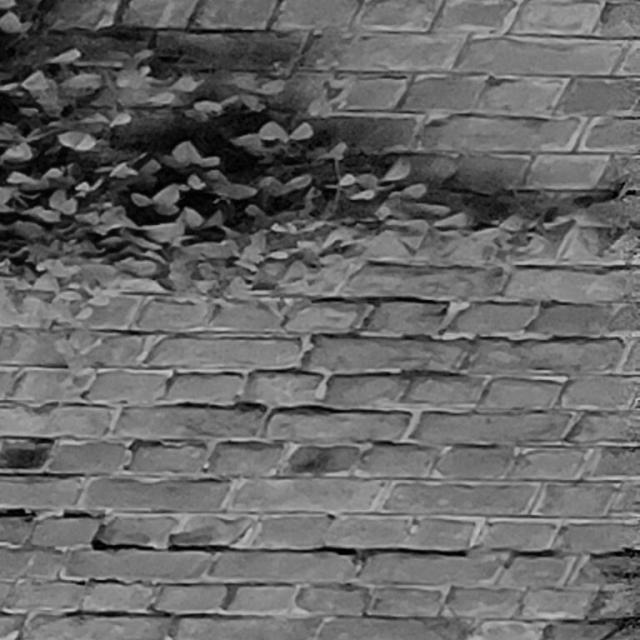crack: (1, 508, 640, 564)
